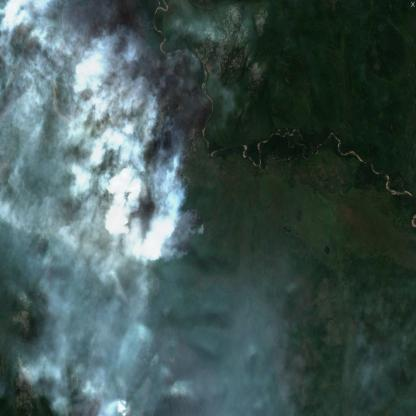fire: (108, 171, 208, 268), (144, 116, 169, 151)
